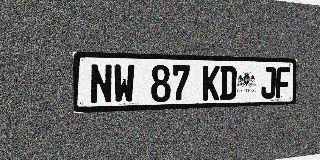7: (171, 65, 190, 102)
8: (151, 65, 171, 102)
D: (220, 66, 237, 100)
F: (275, 67, 290, 98)
J: (261, 67, 276, 99)
K: (202, 66, 220, 101)
N: (90, 64, 112, 104)
W: (113, 64, 135, 103)
